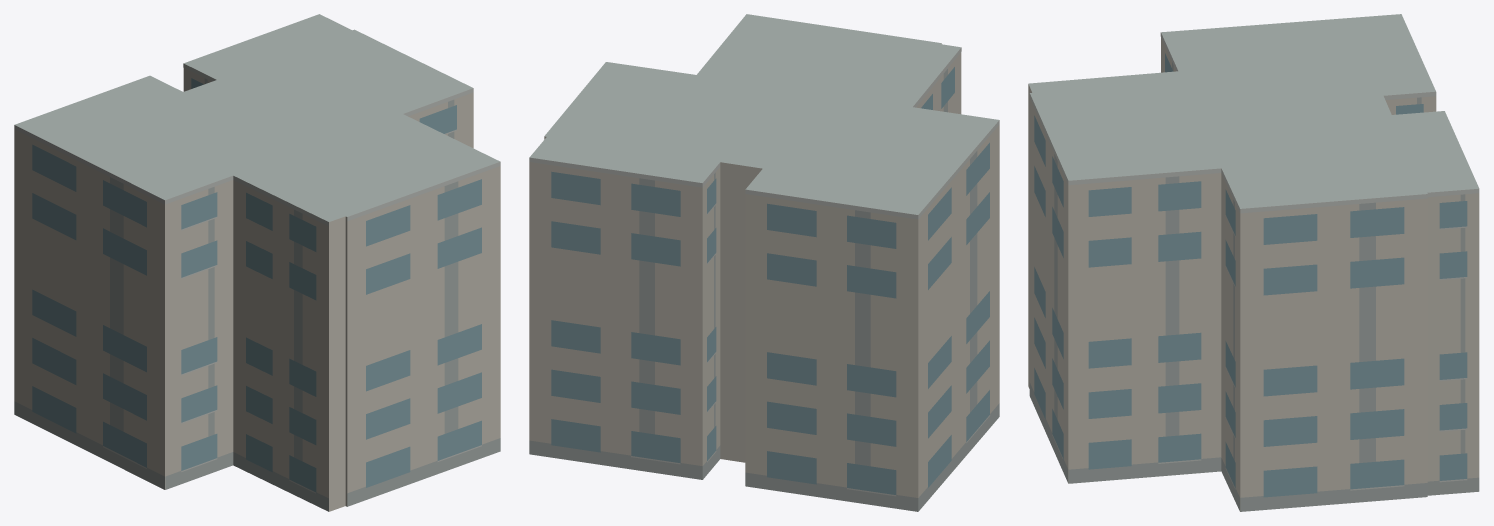
The model's file is survey-upis-32950749.glb.
The picture shows the model from 3 angles, left to right: view 1: azimuth 30°, elevation 25°; view 2: azimuth 150°, elevation 25°; view 3: azimuth 270°, elevation 25°; orthographic projection. The views are drawn at different scales.
Parts seen in each view (by area): view 1: survey-upis-32950749.tmp; view 2: survey-upis-32950749.tmp; view 3: survey-upis-32950749.tmp.
Boxes of the visible parts, bbox=[...] form: survey-upis-32950749.tmp: bbox=[14, 14, 500, 511]; survey-upis-32950749.tmp: bbox=[529, 14, 999, 511]; survey-upis-32950749.tmp: bbox=[1028, 14, 1479, 511].
Bounding box in the file's own units: 22.57 × 16.35 × 22.07.
